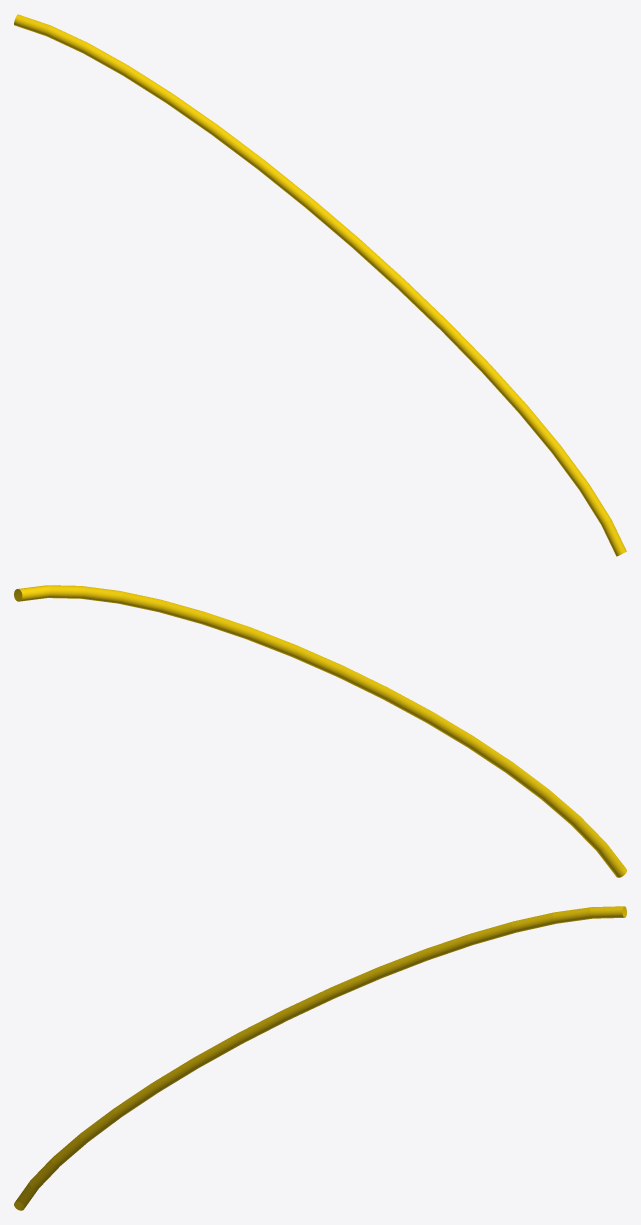
File: Event_421127236_track_19.fbx
3 renders of one model, top to bottom at view 1: azimuth 90°, elevation 25°; view 2: azimuth 150°, elevation 25°; view 3: azimuth 270°, elevation 25°, orthographic. The views are drawn at different scales.
Visible parts, largest first — view 1: Model; view 2: Model; view 3: Model.
Boxes of the visible parts, x1=… form: Model: x1=14, y1=14, x2=626, y2=556; Model: x1=14, y1=585, x2=626, y2=877; Model: x1=14, y1=906, x2=626, y2=1210.
Size of the model in its own units: 1.01 by 1.59 by 2.09.
